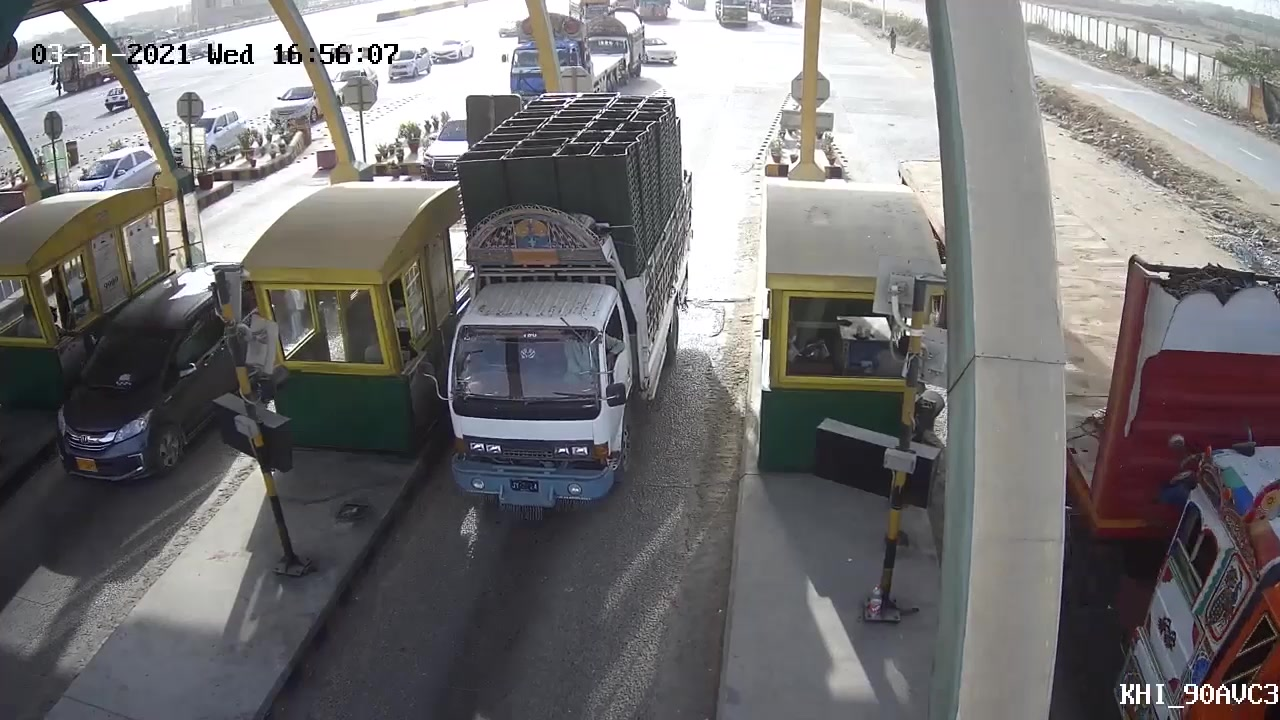F5: (427, 84, 703, 525)
